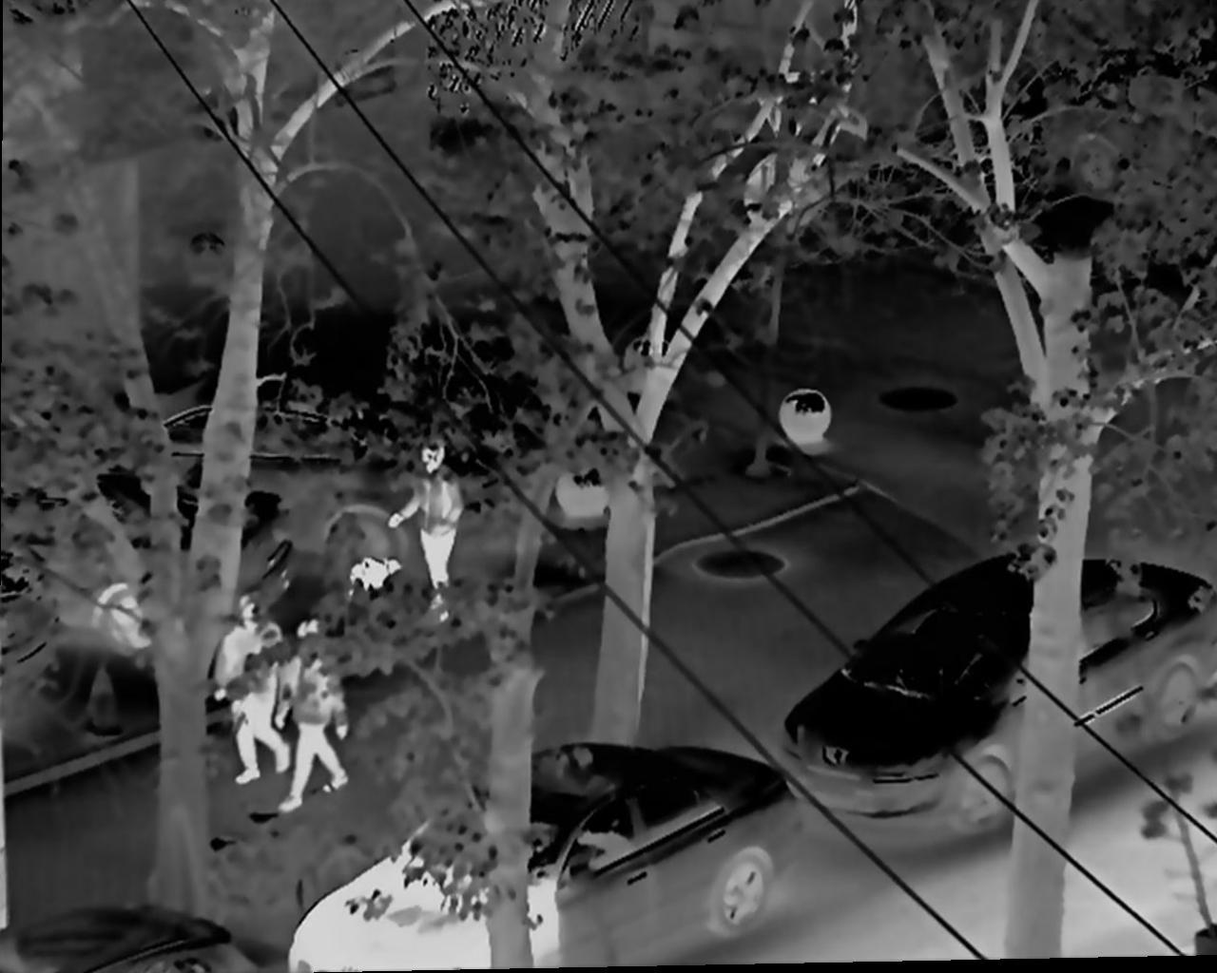person: (216, 596, 289, 781), (386, 434, 460, 616), (282, 622, 350, 810)
